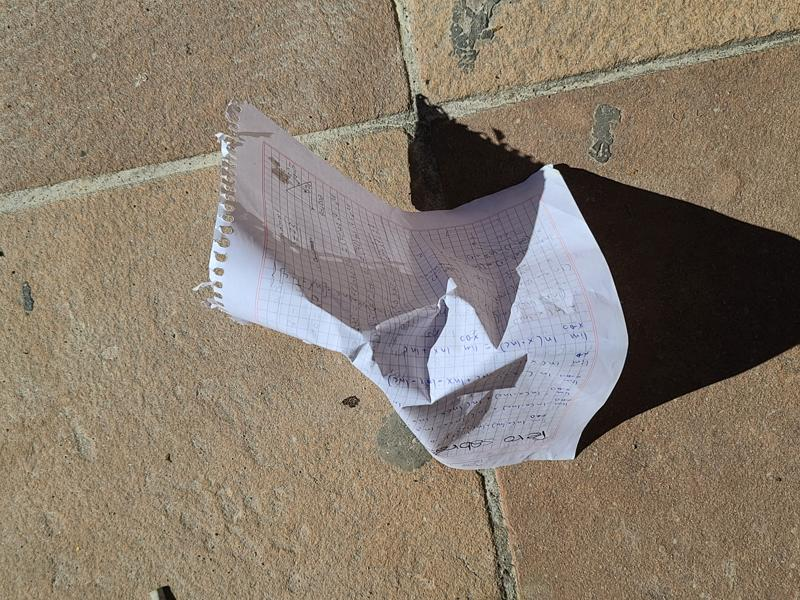papel: (210, 104, 630, 473)
